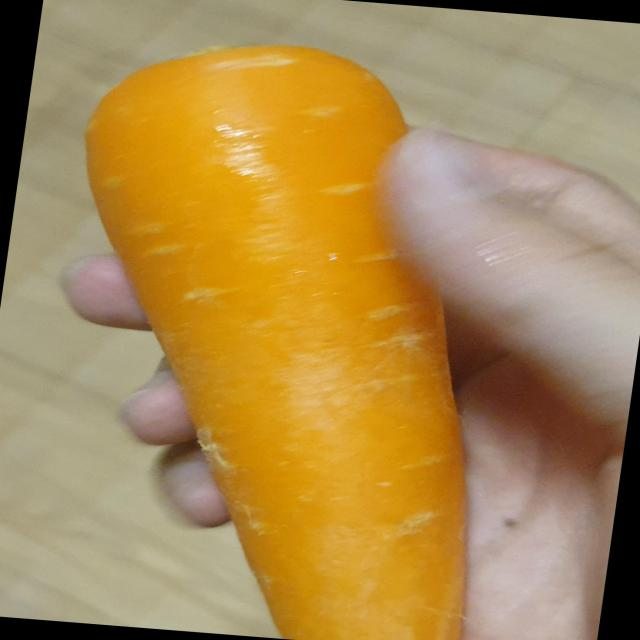carrot: (87, 46, 465, 640)
